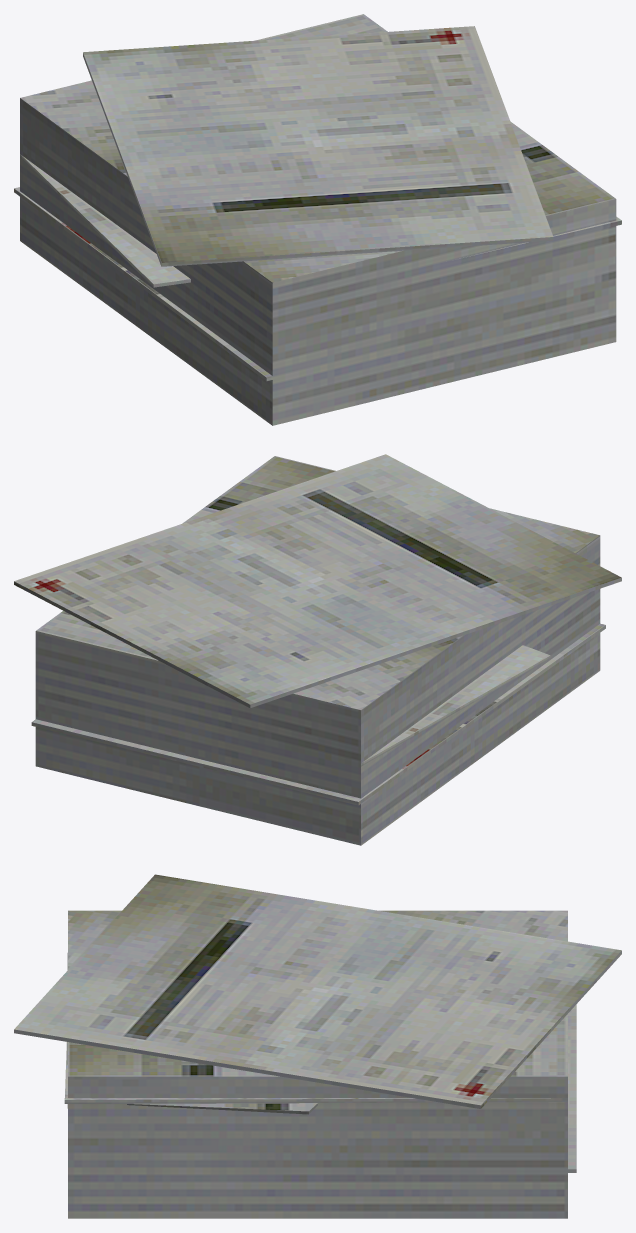
The model's file is SM_PaperPile_2.fbx.
3 renders of one model, top to bottom at view 1: azimuth 30°, elevation 25°; view 2: azimuth 150°, elevation 25°; view 3: azimuth 270°, elevation 25°, orthographic. The views are drawn at different scales.
Visible parts, largest first — view 1: SM_PaperPile_2; view 2: SM_PaperPile_2; view 3: SM_PaperPile_2.
Boxes of the visible parts, x1=… form: SM_PaperPile_2: x1=14, y1=14, x2=621, y2=425; SM_PaperPile_2: x1=14, y1=454, x2=621, y2=845; SM_PaperPile_2: x1=14, y1=874, x2=621, y2=1218.
Size of the model in its own units: 30.59 by 8.99 by 34.03.
